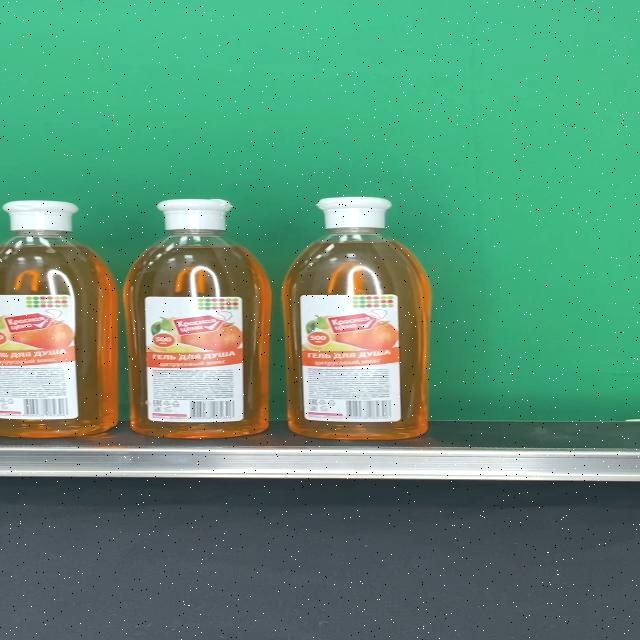Bottle: (282, 196, 430, 440), (124, 198, 271, 438), (0, 200, 119, 437)
Cap: (316, 196, 392, 229), (156, 198, 234, 230), (3, 201, 78, 233)
